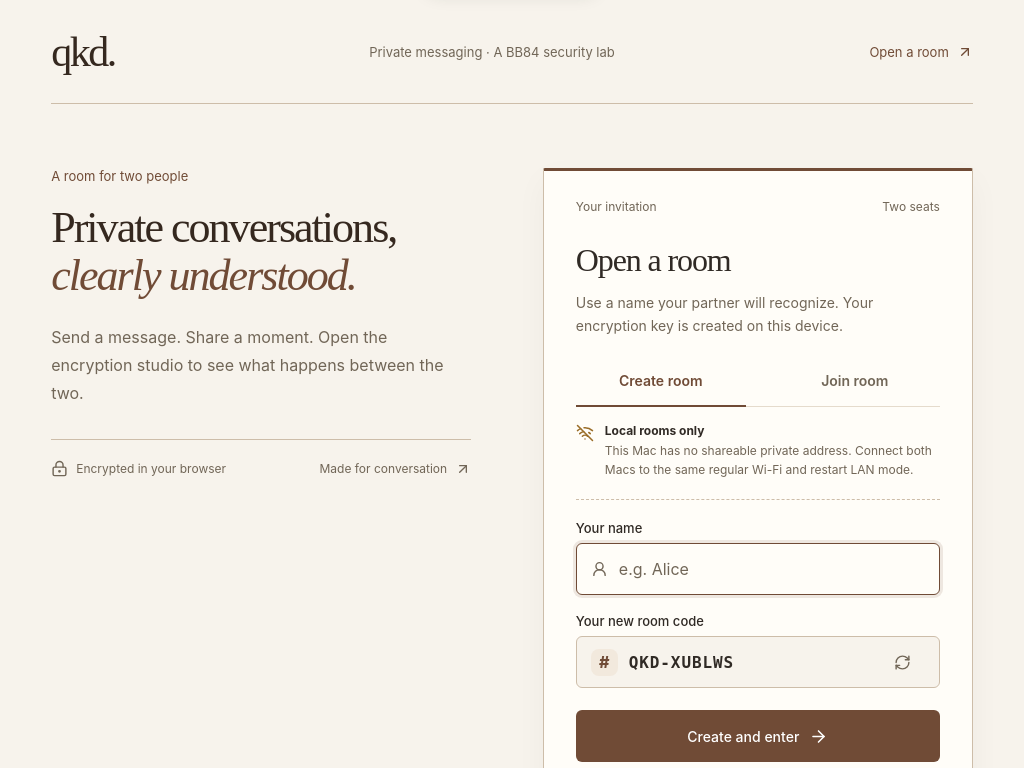
Test: QKD Chat Lab experience › shows ECDH-only mode and that endpoint BB84 has not completed in Security Details
Click the button "Join room" at (855, 384), box 770,361 -> 940,407
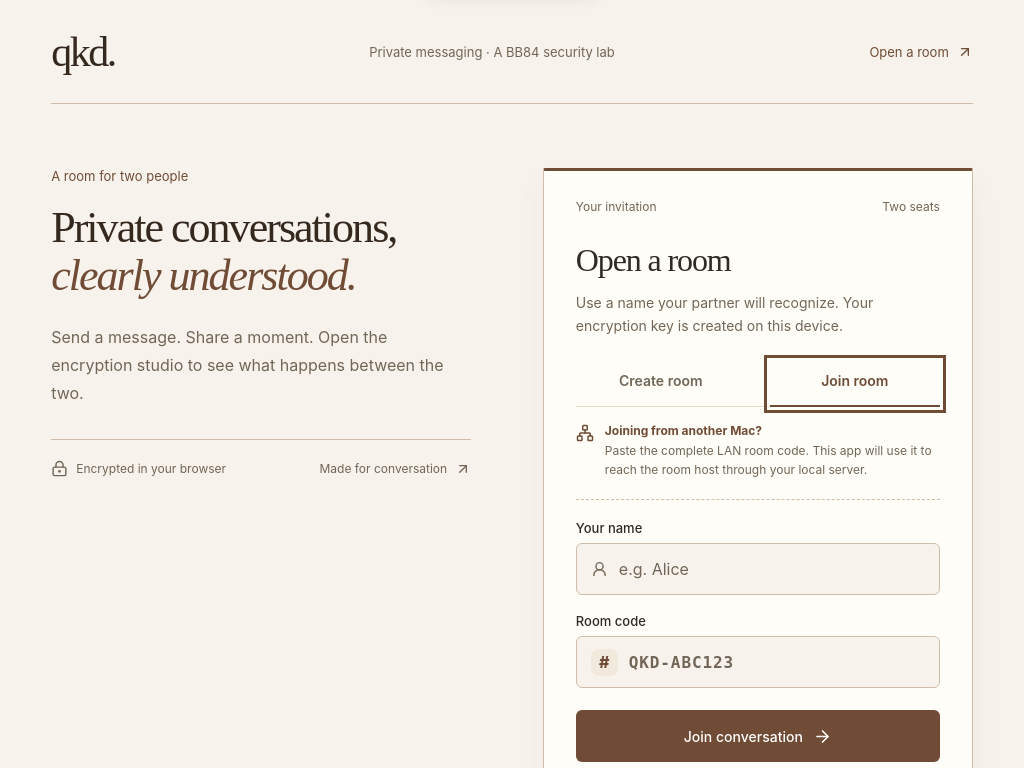
Type "Asha" into the field labelled "Your name" at (766, 569), box 608,544 -> 925,594
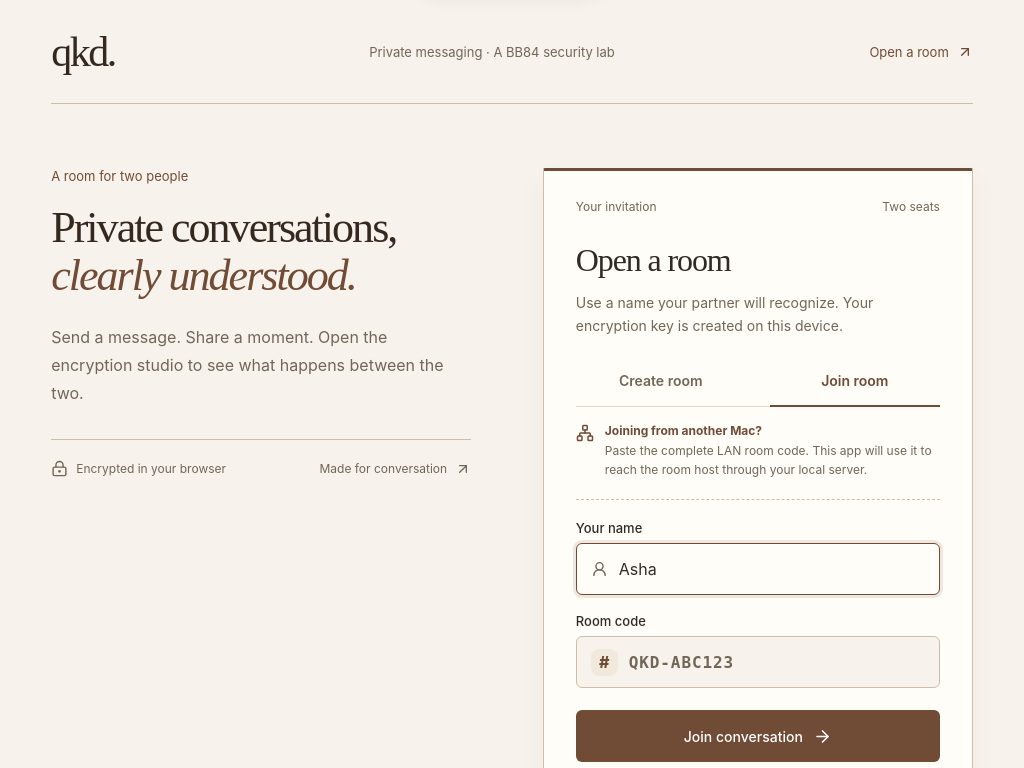
Type "room-42" into the field labelled "Room code" at (771, 662), box 618,637 -> 925,687
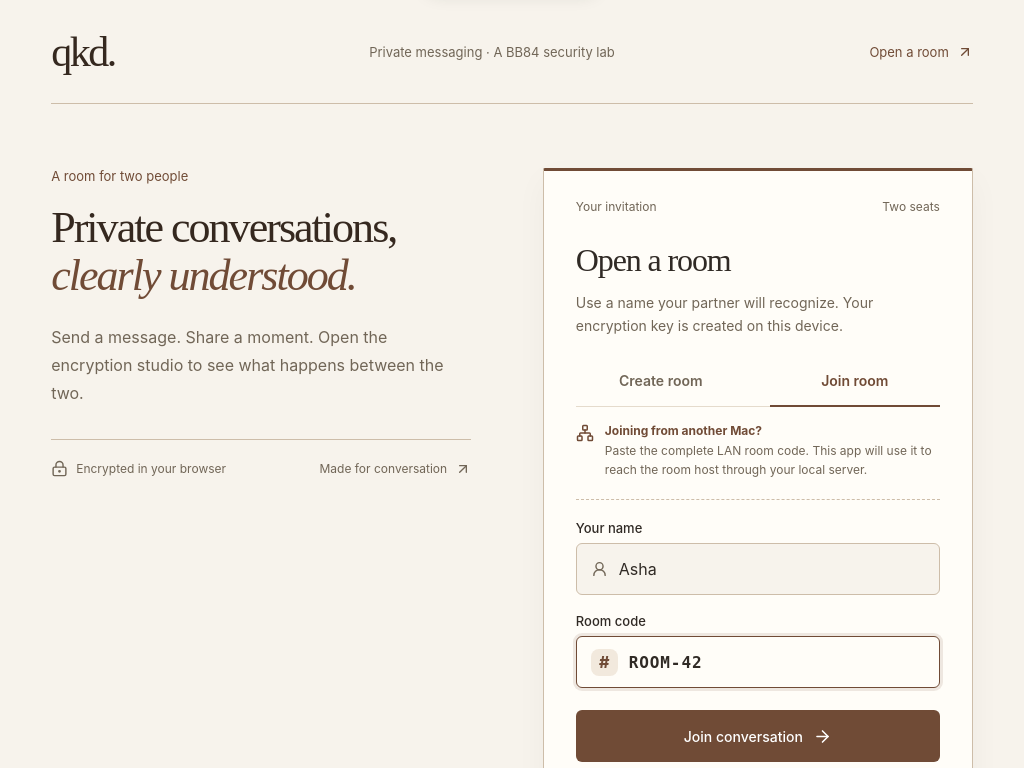
Click the button "Join conversation" at (758, 736), box 576,710 -> 940,762
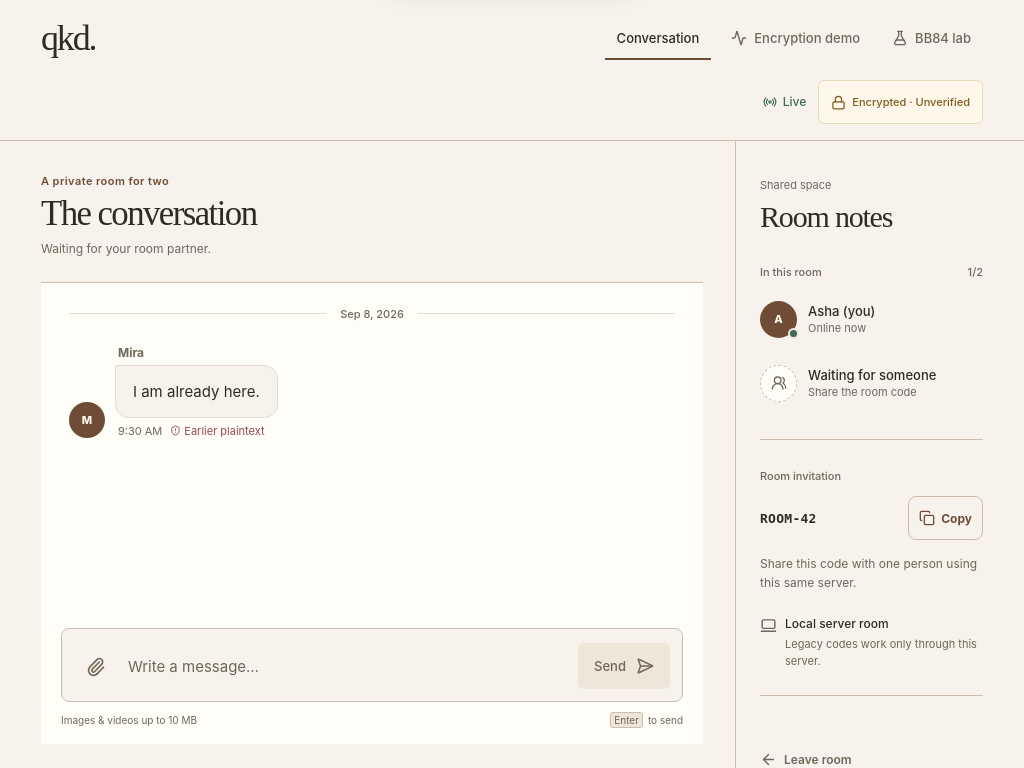
Check: the text box labelled "message" is enabled, box 128,645 -> 568,689
Check: the button "Encrypted · Unverified" is shown
Click the button "Encrypted · Unverified" at (901, 102), box 818,80 -> 983,124
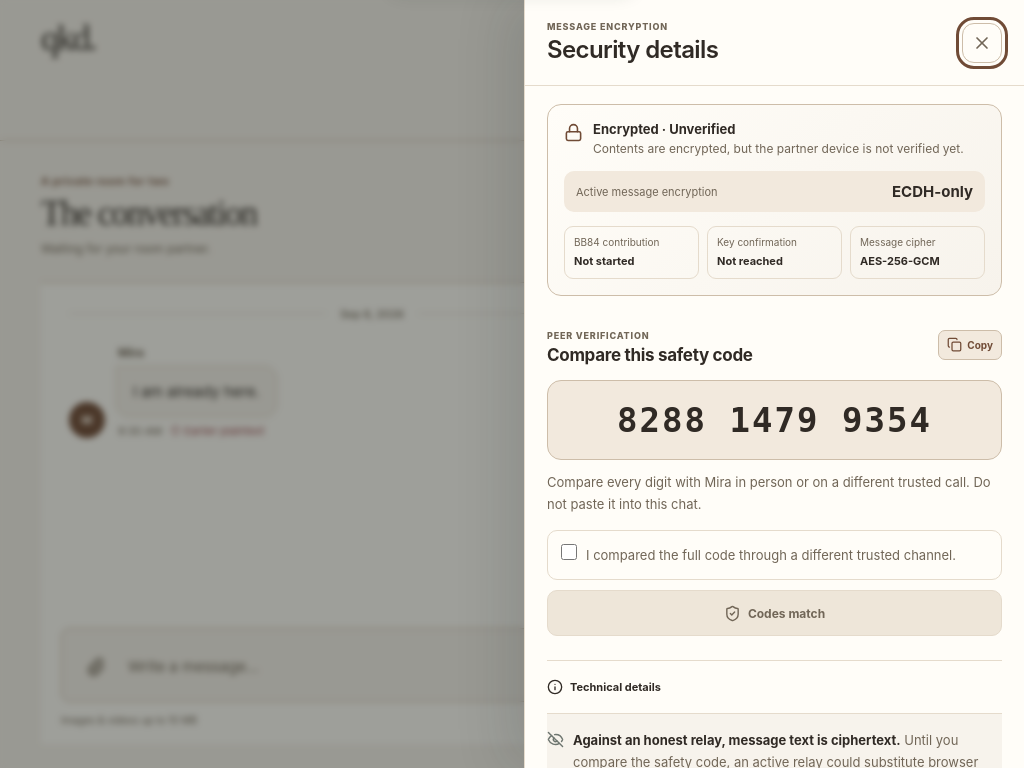
Check: the dialog "Security details" is shown, box 524,0 -> 1023,767
Check: the message named "Current chat security" shows "ECDH-only", box 892,182 -> 973,201
Check: the message named "Current chat security" shows "AES-256-GCM", box 860,254 -> 940,268
Click the heading "Technical details" at (604, 687), box 547,679 -> 661,695
(page scrolled)
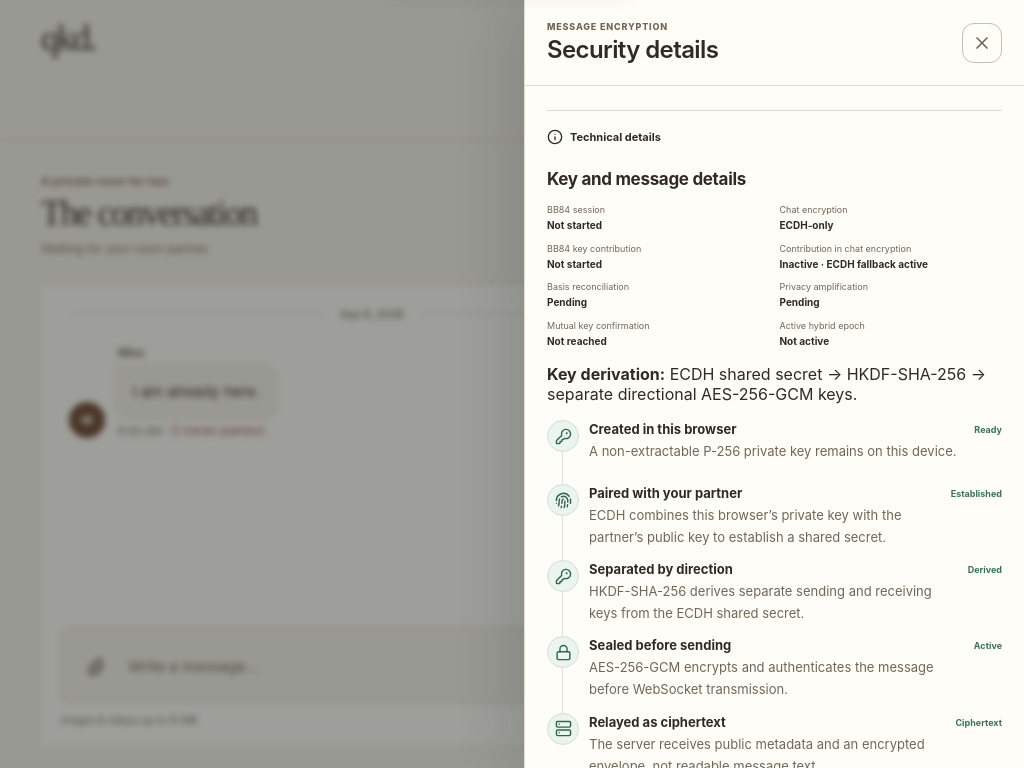
Check: the text "ECDH shared secret → HKDF-SHA-256 → separate directional AES-256-GCM keys" is shown, box 547,364 -> 986,404
